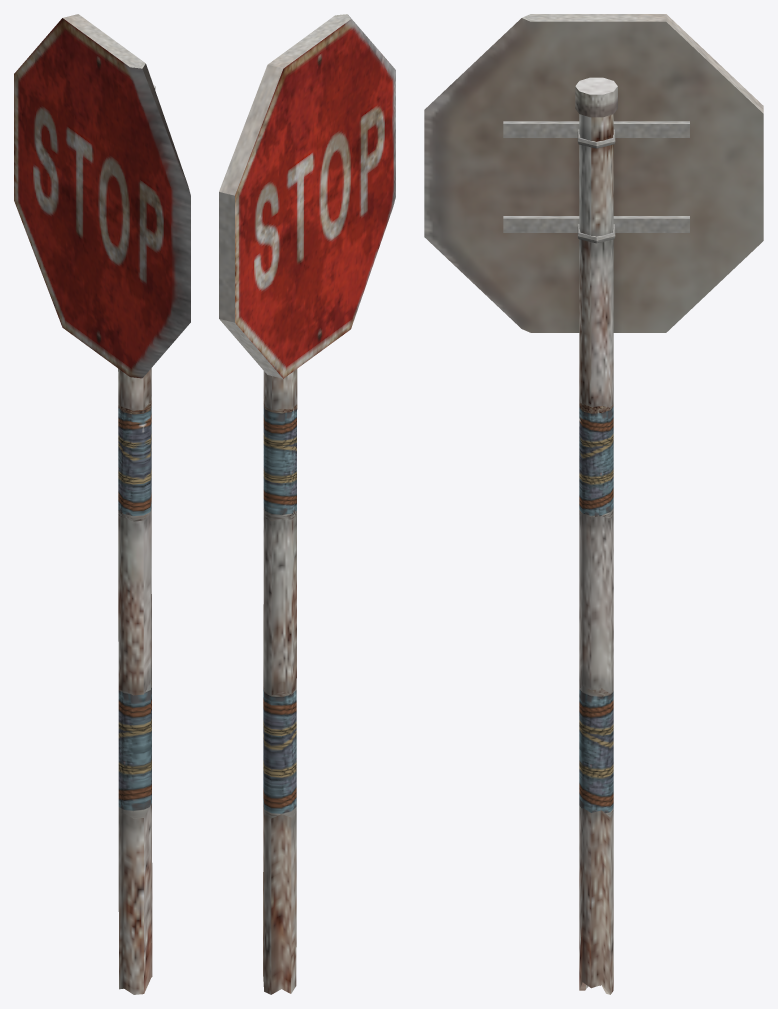
File: LegionAdvancedAxe.fbx
The picture shows the model from 3 angles, left to right: view 1: azimuth 30°, elevation 25°; view 2: azimuth 150°, elevation 25°; view 3: azimuth 270°, elevation 25°; orthographic projection.
Visible parts, largest first — view 1: Cylinder.012; view 2: Cylinder.012; view 3: Cylinder.012.
Boxes of the visible parts, x1=… form: Cylinder.012: x1=14, y1=14, x2=190, y2=994; Cylinder.012: x1=219, y1=14, x2=395, y2=994; Cylinder.012: x1=424, y1=14, x2=763, y2=994.
Size of the model in its own units: 0.0544 by 0.8969 by 0.2878.
